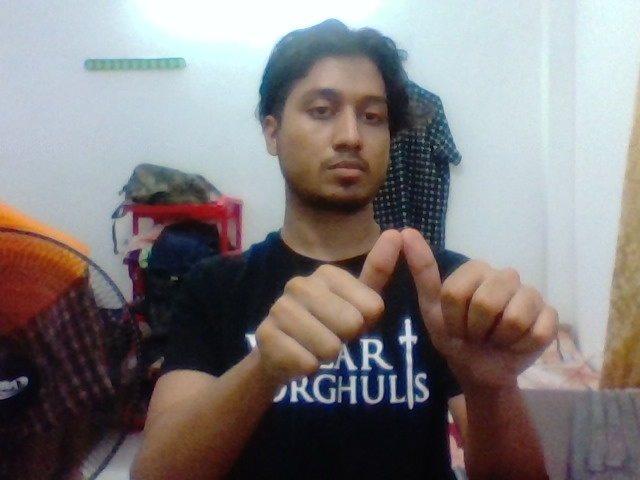A: (258, 216, 575, 396)
